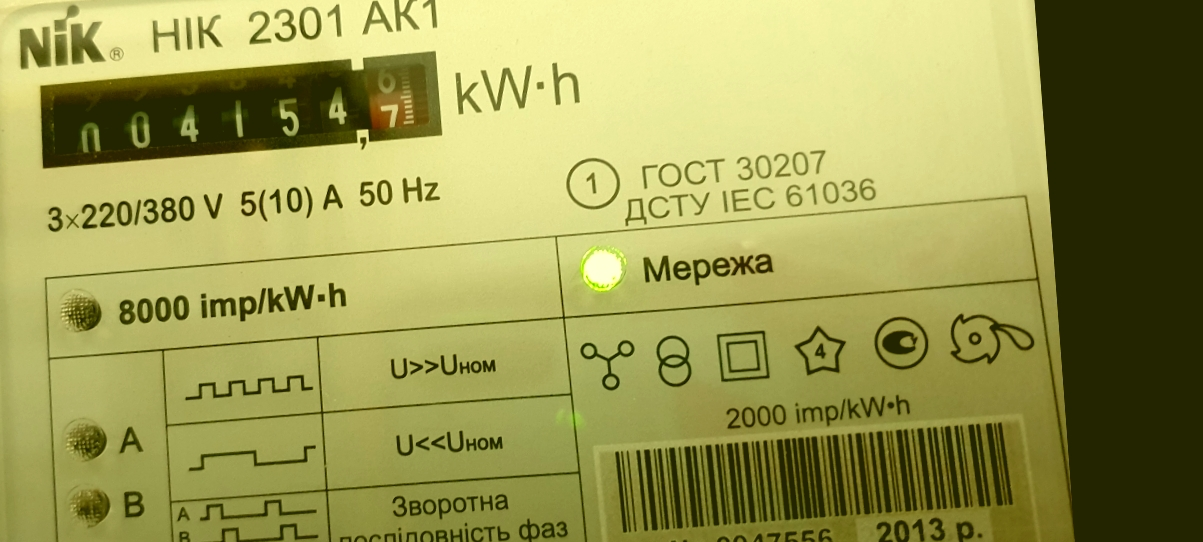0: (127, 106, 152, 149), (77, 116, 102, 152)
1: (230, 96, 247, 138)
4: (175, 101, 201, 144), (324, 81, 348, 126)
5: (275, 91, 303, 137)
6: (374, 63, 399, 94)
7: (377, 99, 400, 129)
screen: (20, 34, 460, 182)
